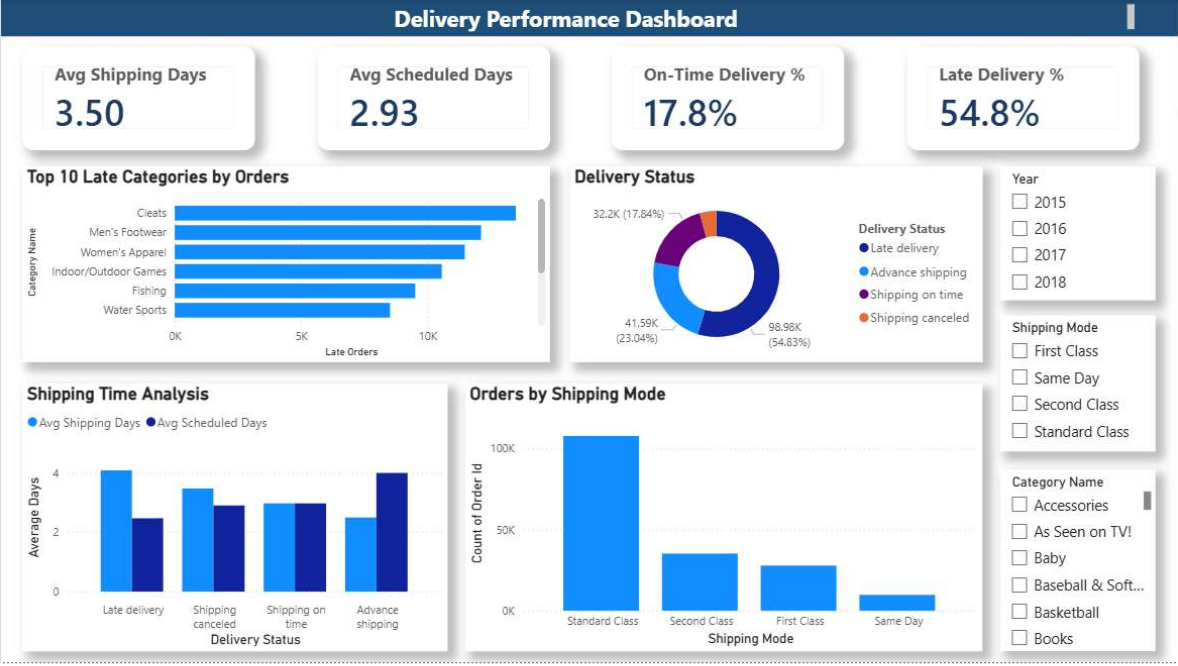

What the dashboard file says about the page in this screenshot:
{"tool":"powerbi","page":{"name":"Delivery Performance","canvas":[1280,720],"ordinal":1},"visuals":[{"type":"shape","box":[0,0,1280.3,39.8],"z":0},{"type":"textbox","box":[0,0,1237.7,39.8],"z":1},{"type":"cardVisual","fields":{"Data":["Dim_Customers.Avg Shipping Days"]},"box":[23.3,50.8,252.5,112.5],"z":7000,"group":"g1"},{"type":"cardVisual","fields":{"Data":["Dim_Customers.Avg Scheduled Days"]},"box":[334.3,50.8,252.5,112.5],"z":7001,"group":"g1"},{"type":"cardVisual","fields":{"Data":["Dim_Customers.On-Time Delivery %"]},"box":[956.4,50.8,252.5,112.5],"z":7002,"group":"g1"},{"type":"cardVisual","fields":{"Data":["Dim_Customers.Late Delivery %"]},"box":[645.4,50.8,252.5,112.5],"z":7003,"group":"g1"},{"type":"clusteredColumnChart","title":"Shipping Time Analysis","fields":{"Category":["Fact_Orders.Delivery Status"],"Y":["Dim_Customers.Avg Shipping Days","Dim_Customers.Avg Scheduled Days"]},"box":[23.3,417.2,462.4,290.9],"z":7004,"group":"g1"},{"type":"clusteredBarChart","title":"Top 10 Late Categories by Orders","fields":{"Category":["Dim_Products.Category Name"],"Y":["Dim_Customers.Late Orders"]},"box":[23.3,181.2,573.6,212.7],"z":7005,"group":"g1"},{"type":"donutChart","title":" Delivery Status","fields":{"Category":["Fact_Orders.Delivery Status"],"Y":["CountNonNull(Fact_Orders.Order Id)"]},"box":[618.8,181.2,448.7,212.7],"z":7006,"group":"g1"},{"type":"clusteredColumnChart","title":"Orders by Shipping Mode","fields":{"Category":["Fact_Orders.Shipping Mode"],"Y":["CountNonNull(Fact_Orders.Order Id)"]},"box":[504.9,417.2,562.6,290.9],"z":7007,"group":"g1"},{"type":"slicer","fields":{"Values":["Dim_Date.Year"]},"box":[1086.8,181.2,168.8,145.5],"z":7008,"group":"g1"},{"type":"slicer","fields":{"Values":["Dim_Products.Category Name"]},"box":[1086.8,510.5,168.8,197.6],"z":7009,"group":"g1"},{"type":"slicer","fields":{"Values":["Fact_Orders.Shipping Mode"]},"box":[1086.8,343.1,168.8,148.2],"z":7010,"group":"g1"},{"type":"group","id":"g1","title":"Group 1","box":[23.3,50.8,1232.3,657.3],"z":7011}]}

Visuals, with their boxes in screenshot pixels (x1, y1, x2, y2), scaled from the page's 1280x720 canvas onto the 1178x666 screenshot:
shape: <region>0, 0, 1177, 37</region>
textbox: <region>0, 0, 1139, 37</region>
cardVisual - Dim_Customers.Avg Shipping Days: <region>21, 47, 254, 151</region>
cardVisual - Dim_Customers.Avg Scheduled Days: <region>308, 47, 540, 151</region>
cardVisual - Dim_Customers.On-Time Delivery %: <region>880, 47, 1113, 151</region>
cardVisual - Dim_Customers.Late Delivery %: <region>594, 47, 826, 151</region>
"Shipping Time Analysis" clusteredColumnChart: <region>21, 386, 447, 655</region>
"Top 10 Late Categories by Orders" clusteredBarChart: <region>21, 168, 549, 364</region>
" Delivery Status" donutChart: <region>569, 168, 982, 364</region>
"Orders by Shipping Mode" clusteredColumnChart: <region>465, 386, 982, 655</region>
slicer - Dim_Date.Year: <region>1000, 168, 1156, 302</region>
slicer - Dim_Products.Category Name: <region>1000, 472, 1156, 655</region>
slicer - Fact_Orders.Shipping Mode: <region>1000, 317, 1156, 454</region>
"Group 1" group: <region>21, 47, 1156, 655</region>
